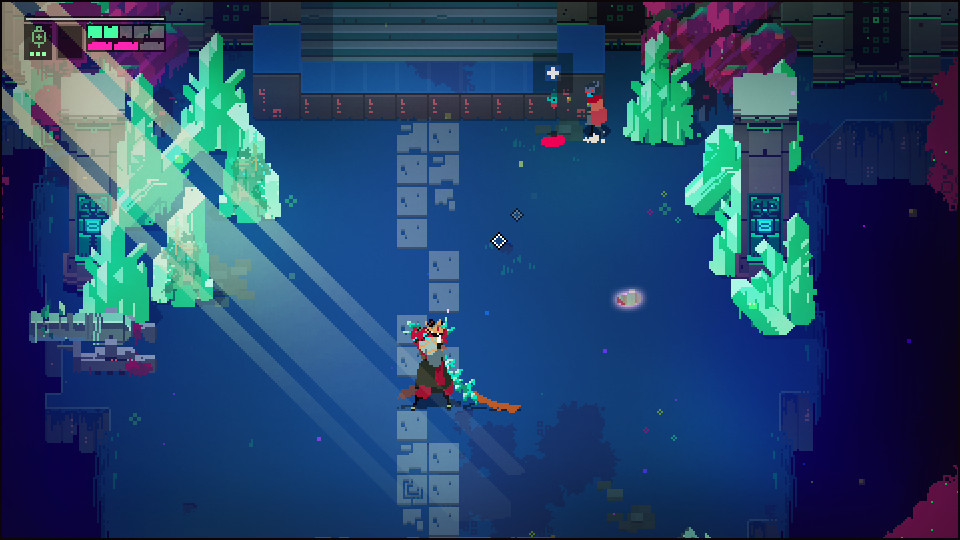hanged_man: (399, 311, 479, 423)
player: (582, 81, 608, 138)
